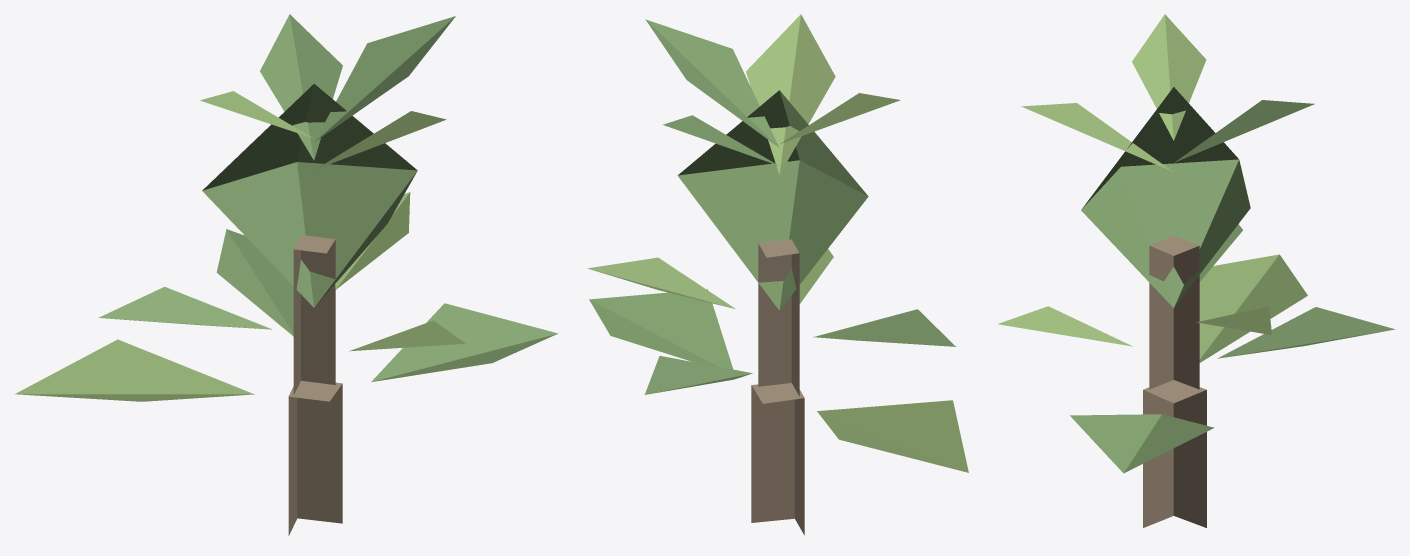
Rendered from shu.gaoshan@seedling__spring.glb.
The picture shows the model from 3 angles, left to right: view 1: azimuth 30°, elevation 25°; view 2: azimuth 150°, elevation 25°; view 3: azimuth 270°, elevation 25°; orthographic projection.
Parts seen in each view (by area): view 1: shu.gaoshan@seedling__spring; view 2: shu.gaoshan@seedling__spring; view 3: shu.gaoshan@seedling__spring.
Boxes of the visible parts, x1,y1,x2,y2 form: shu.gaoshan@seedling__spring: [15, 14, 557, 535]; shu.gaoshan@seedling__spring: [587, 14, 968, 535]; shu.gaoshan@seedling__spring: [997, 14, 1394, 527].
Bounding box in the file's own units: 1.52 × 1.51 × 1.14.
